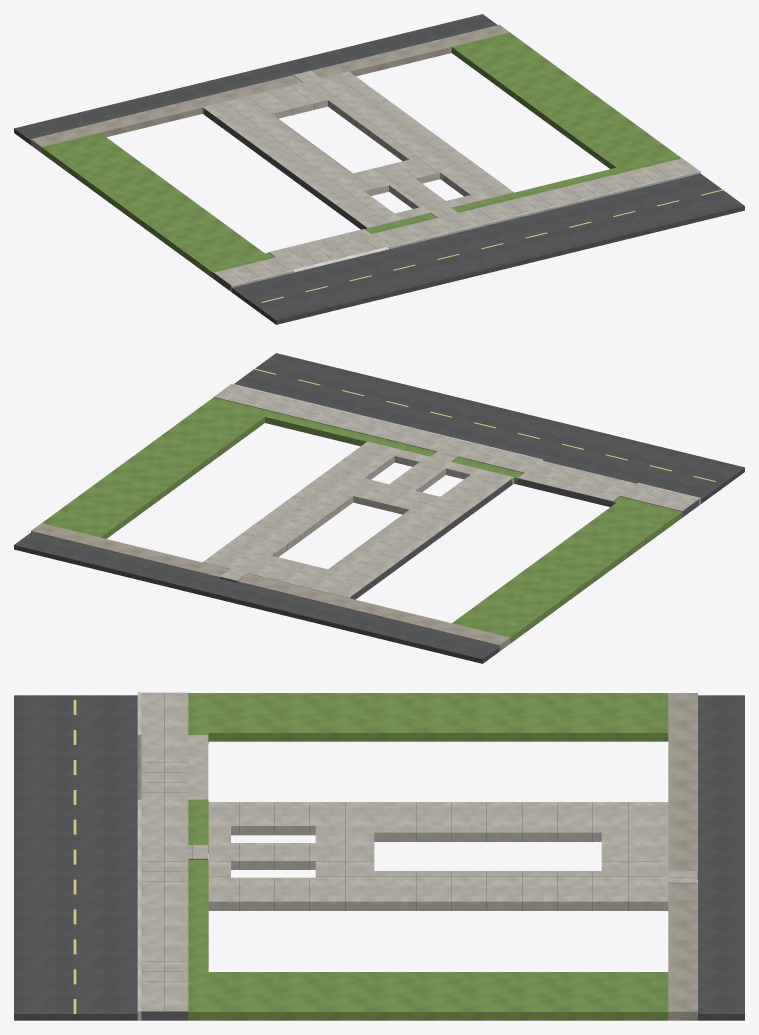
Rendered from site.glb.
The picture shows the model from 3 angles, top to bottom: view 1: azimuth 30°, elevation 25°; view 2: azimuth 150°, elevation 25°; view 3: azimuth 270°, elevation 25°; orthographic projection. The views are drawn at different scales.
Visible parts, largest first — view 1: site_asphalt, site_concrete, site_grass, site_gravel, site_curb, site_dark; view 2: site_asphalt, site_concrete, site_grass, site_gravel, site_dark, site_curb; view 3: site_concrete, site_asphalt, site_grass, site_gravel, site_dark, site_curb, site_line_y.
Boxes of the visible parts, x1,y1,x2,y2 form: site_asphalt: (14, 14, 744, 324); site_concrete: (202, 70, 698, 284); site_grass: (41, 32, 681, 278); site_gravel: (31, 24, 509, 152); site_curb: (230, 170, 700, 291); site_dark: (204, 75, 602, 291); site_asphalt: (14, 353, 744, 663); site_concrete: (202, 384, 698, 598); site_grass: (42, 397, 682, 643); site_gravel: (31, 523, 510, 650); site_dark: (214, 397, 699, 599); site_curb: (231, 383, 700, 504); site_concrete: (141, 692, 697, 1011); site_asphalt: (14, 695, 744, 1020); site_grass: (188, 693, 668, 1020); site_gravel: (668, 693, 697, 1020); site_dark: (141, 693, 628, 1020); site_curb: (137, 692, 141, 1020); site_line_y: (73, 700, 76, 1013).
Bounding box in the file's own units: 32 × 0.43 × 31.
7 materials, 5 textured.
